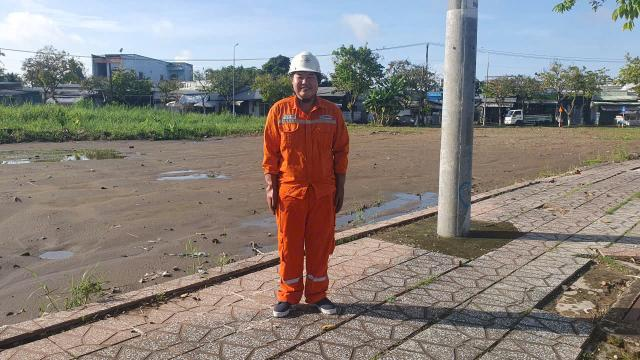gloves: (260, 170, 285, 216), (330, 165, 347, 211)
helmet: (290, 46, 325, 78)
shoes: (306, 291, 341, 315), (270, 294, 298, 320)
